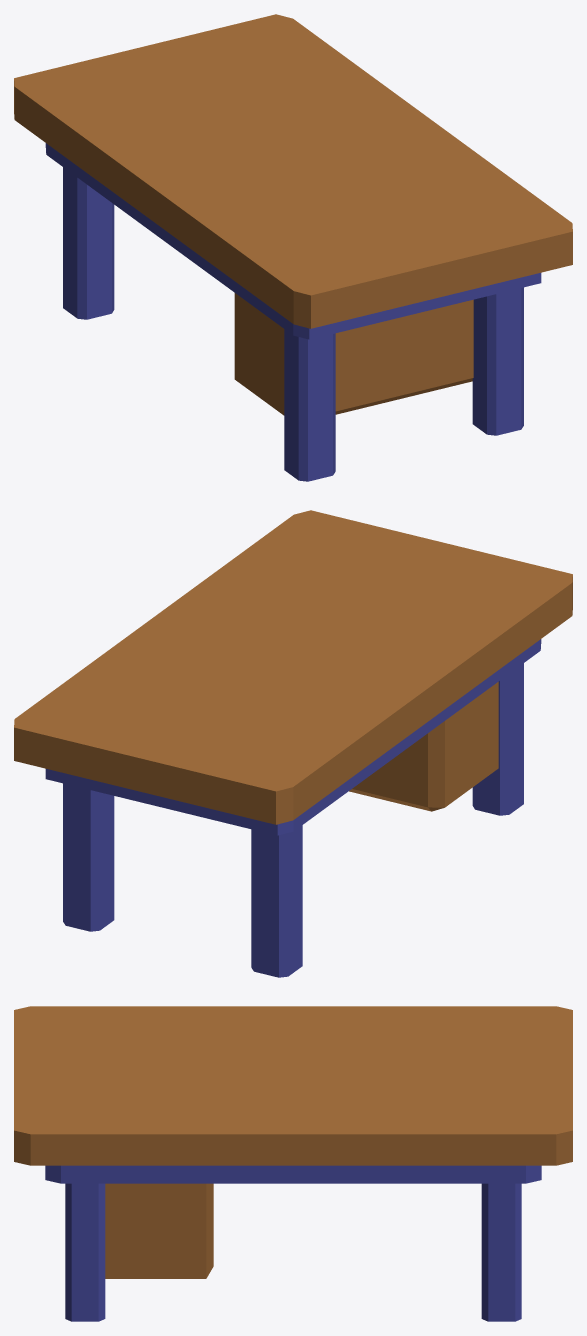
Rendered from SM_table_02.fbx.
3 renders of one model, top to bottom at view 1: azimuth 30°, elevation 25°; view 2: azimuth 150°, elevation 25°; view 3: azimuth 270°, elevation 25°, orthographic. The views are drawn at different scales.
Parts seen in each view (by area): view 1: table_02, table_legs_02; view 2: table_02, table_legs_02; view 3: table_02, table_legs_02.
Boxes of the visible parts, x1,y1,x2,y2 form: table_02: [14, 14, 572, 415]; table_legs_02: [45, 143, 541, 481]; table_02: [14, 510, 572, 824]; table_legs_02: [45, 639, 541, 977]; table_02: [14, 1006, 572, 1278]; table_legs_02: [45, 1165, 541, 1321].
Bounding box in the file's own units: 129 × 93.81 × 238.
